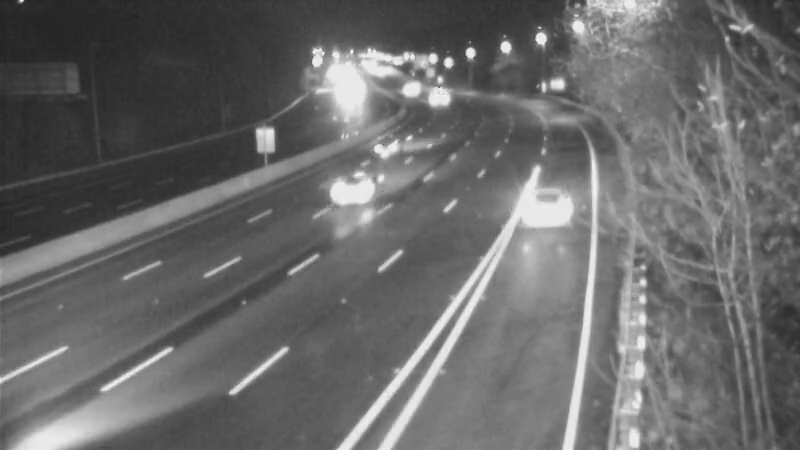vehicle: (348, 114, 428, 194), (318, 153, 398, 233), (506, 171, 586, 251), (386, 66, 436, 116), (407, 73, 457, 123)
